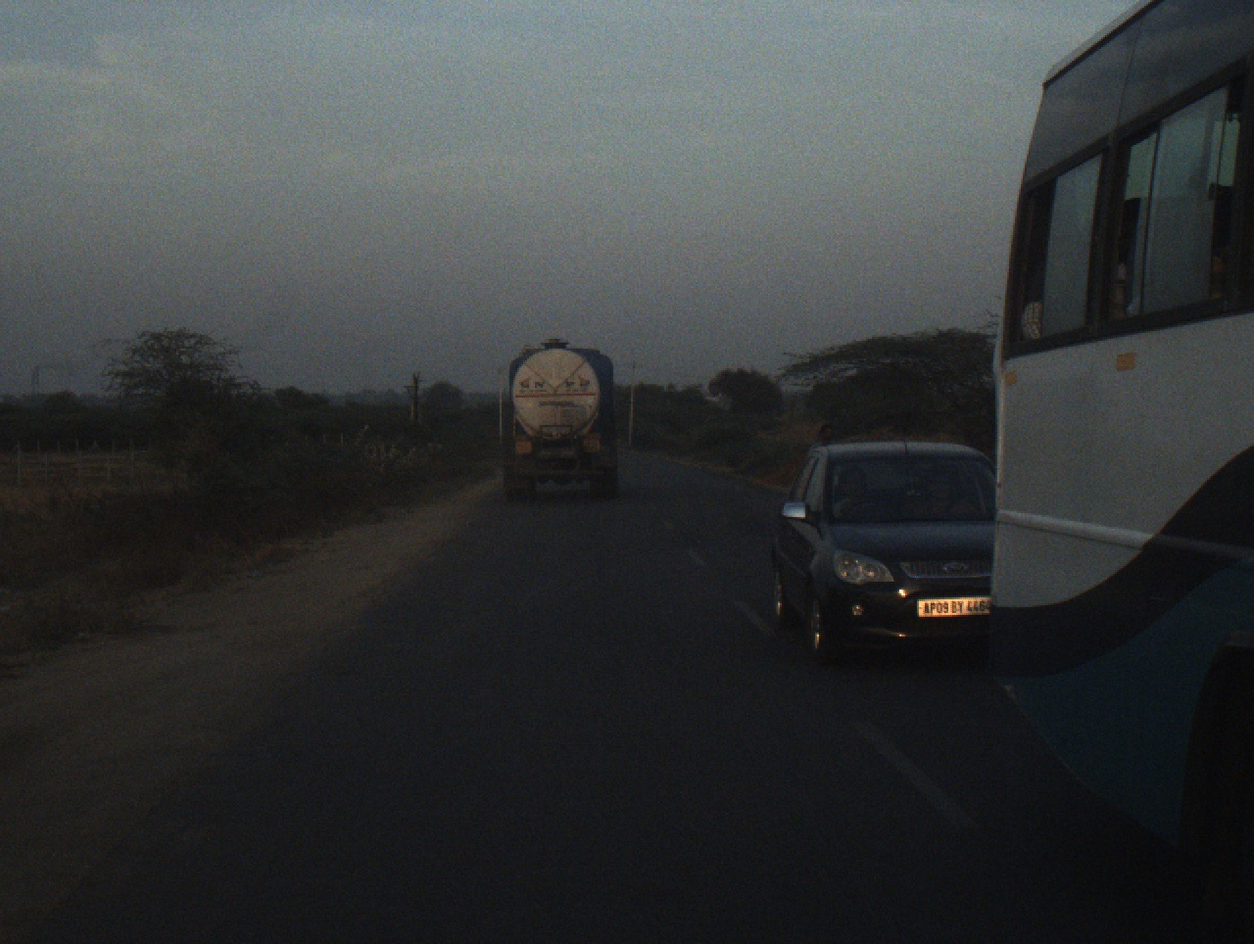bus: (989, 1, 1254, 940)
car: (773, 435, 1014, 676)
rider: (808, 420, 846, 461)
truck: (494, 338, 626, 500)
